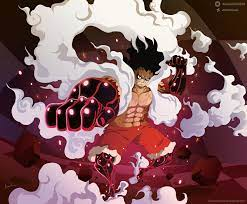Luffy: (129, 49, 156, 90)
